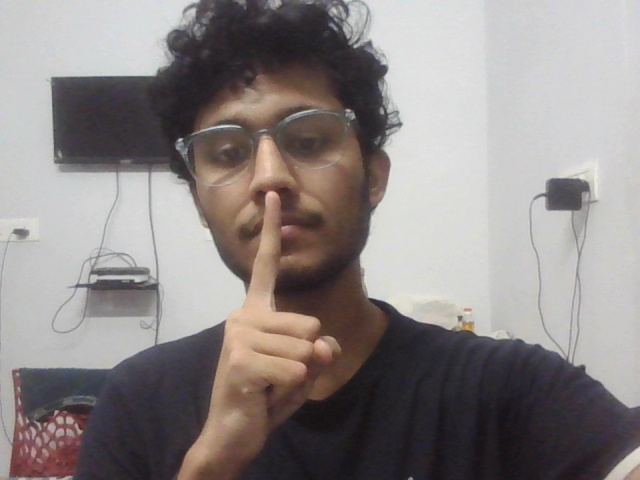Quiet: (193, 182, 355, 466)
